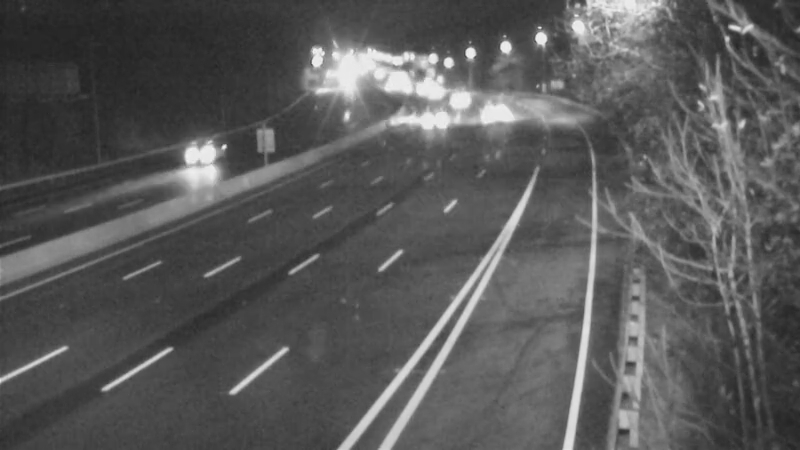vehicle: (157, 119, 237, 199), (412, 67, 462, 117), (428, 70, 478, 120), (466, 86, 516, 136), (378, 91, 428, 141), (406, 91, 456, 141)
